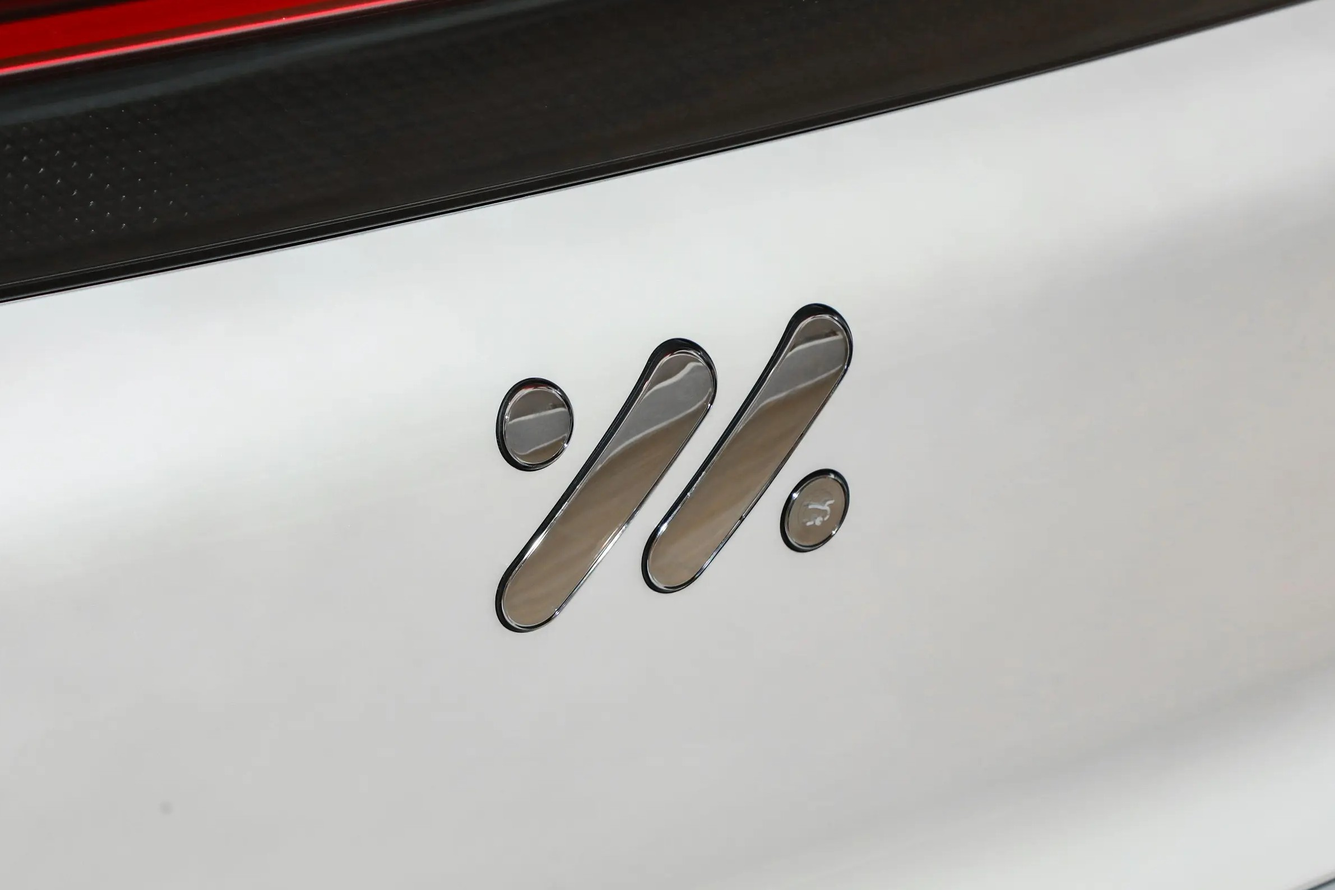IM: (495, 305, 851, 636)
